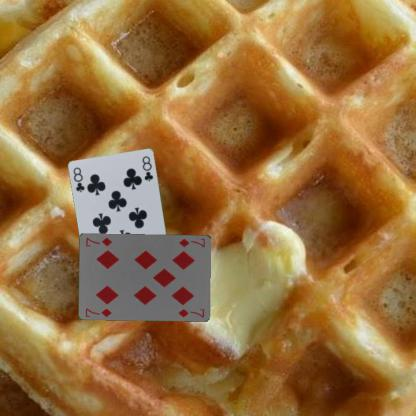7d: (177, 236, 206, 248), (83, 306, 113, 317)
8c: (71, 165, 86, 194)
